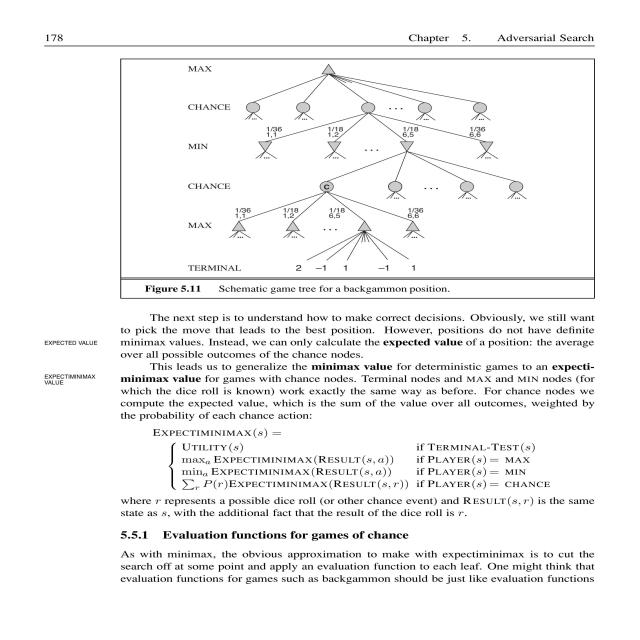diagram: (124, 62, 534, 297)
